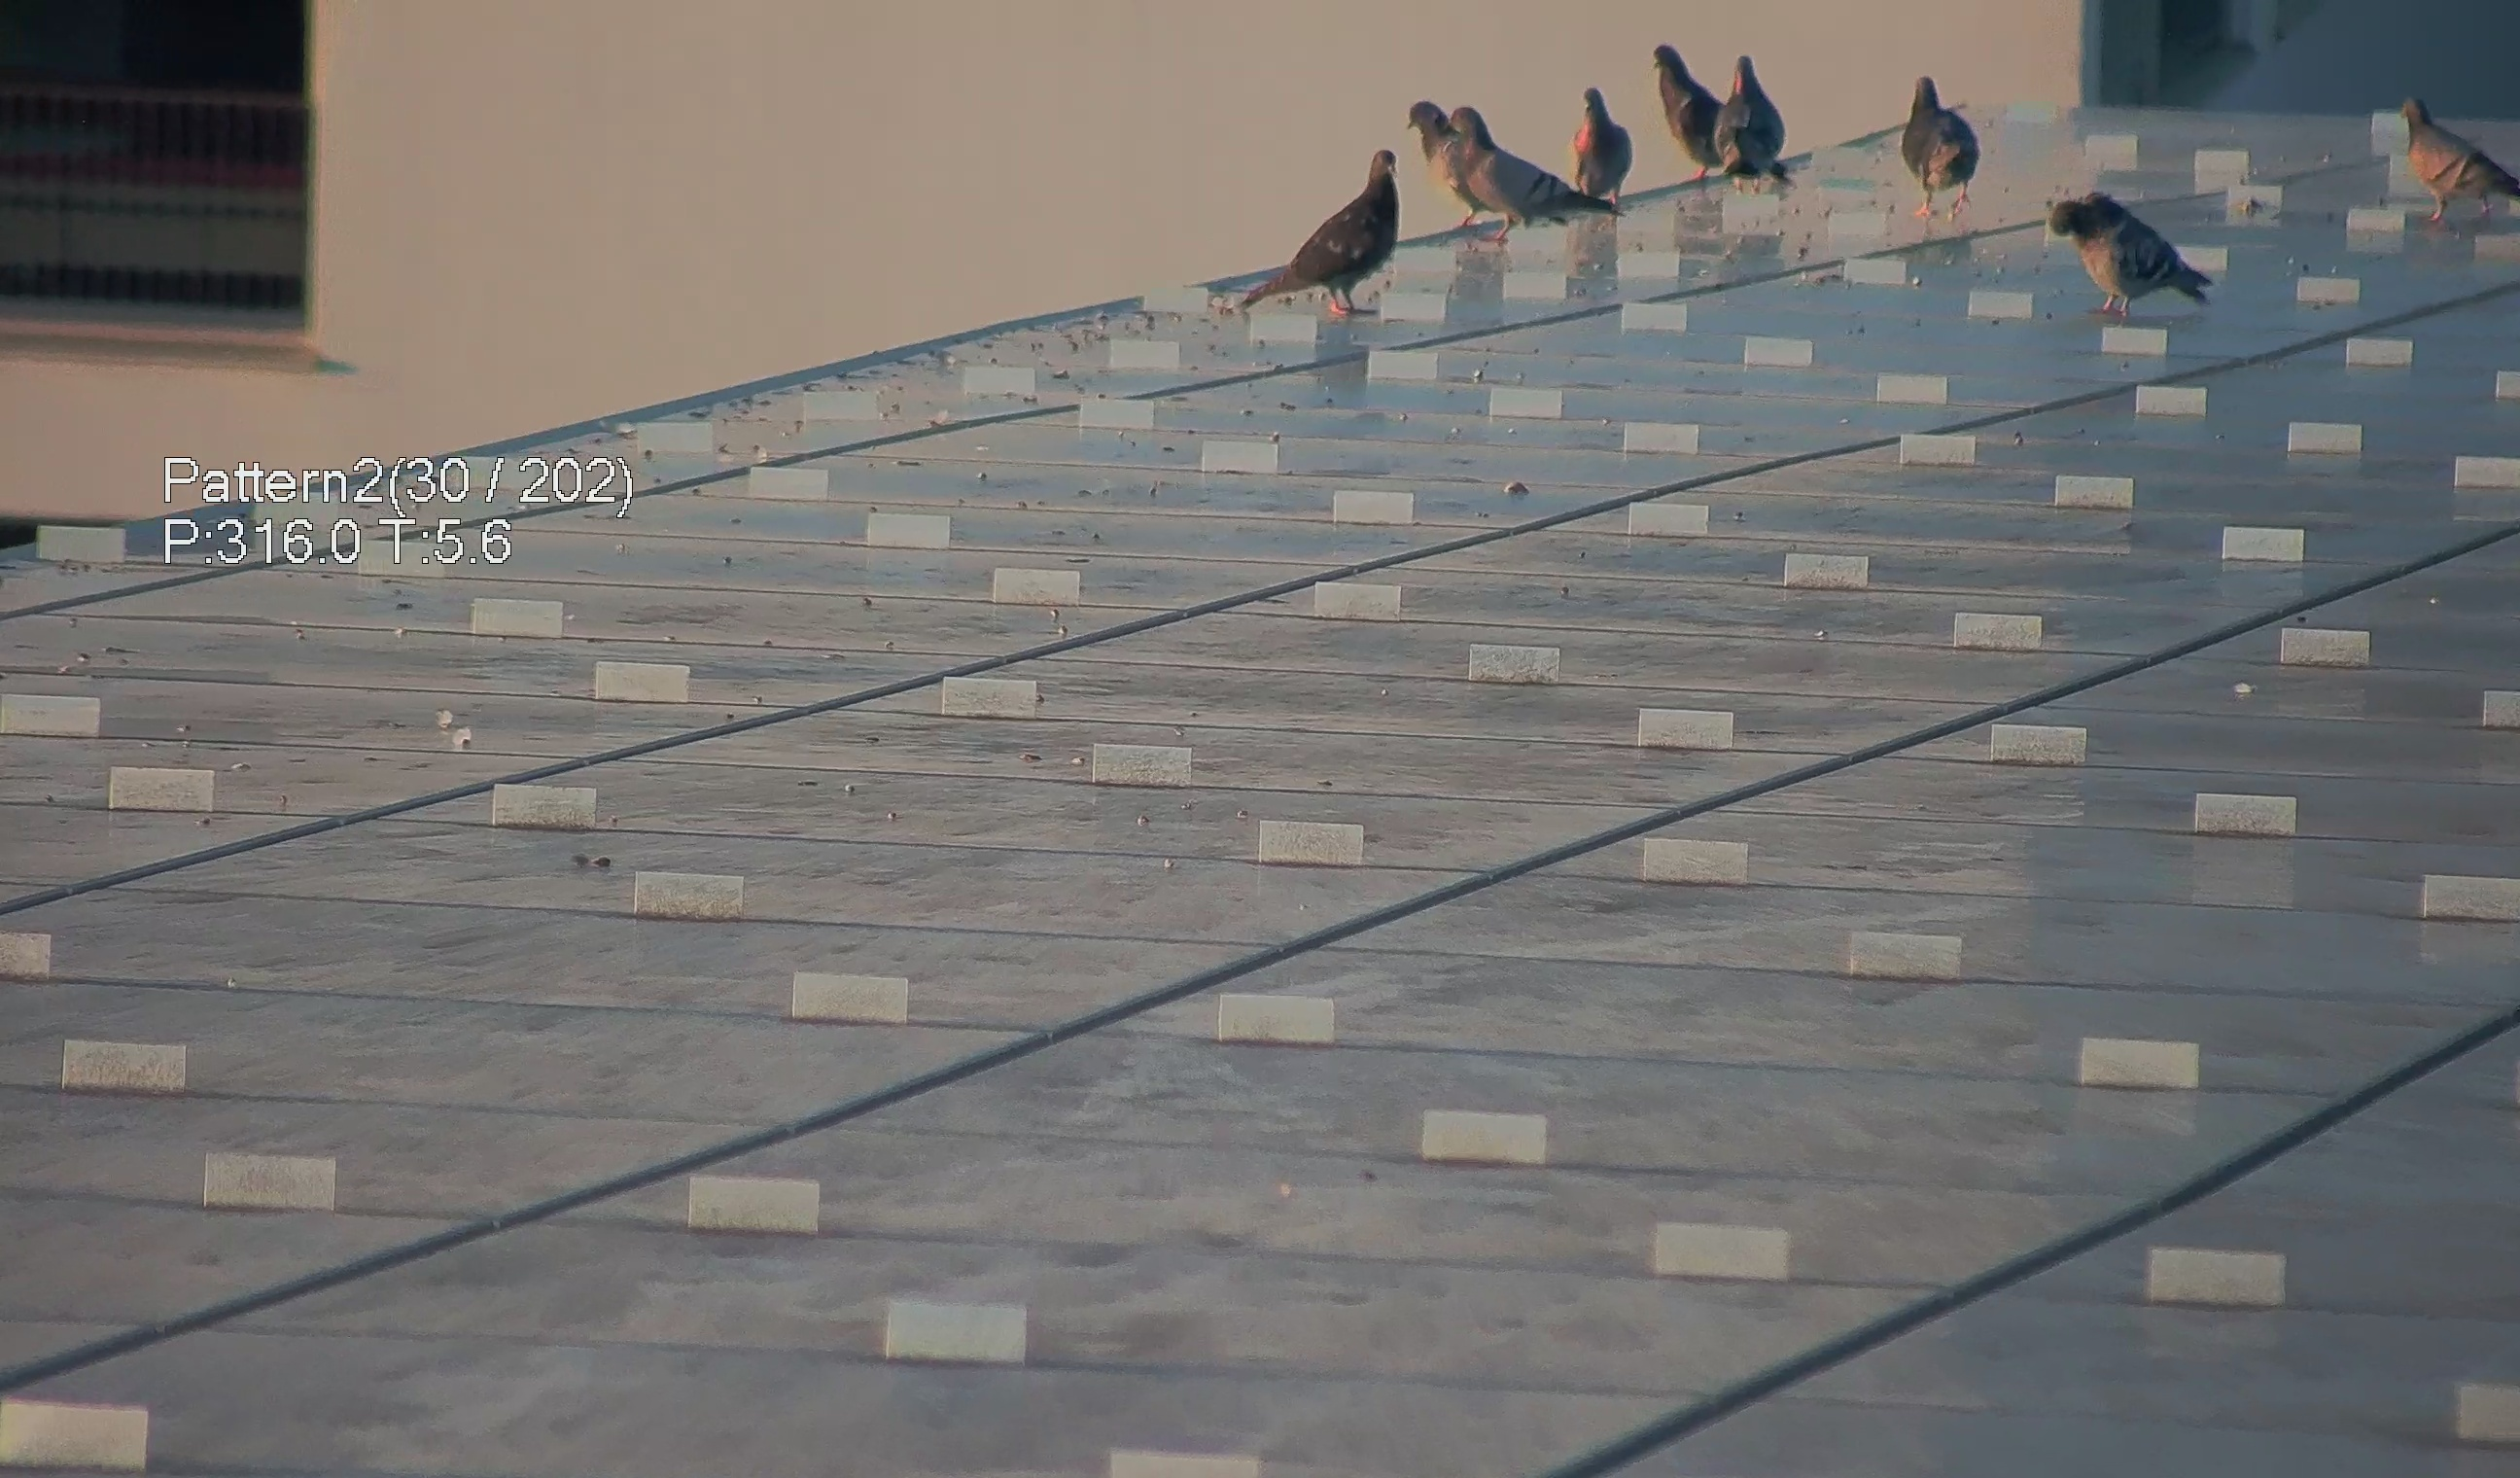Pigeon: (1222, 137, 1410, 317), (1407, 81, 1613, 230), (2054, 178, 2233, 318), (2397, 93, 2520, 236), (1896, 60, 1998, 220), (1658, 19, 1739, 194), (1713, 53, 1799, 197), (1553, 72, 1639, 209)
